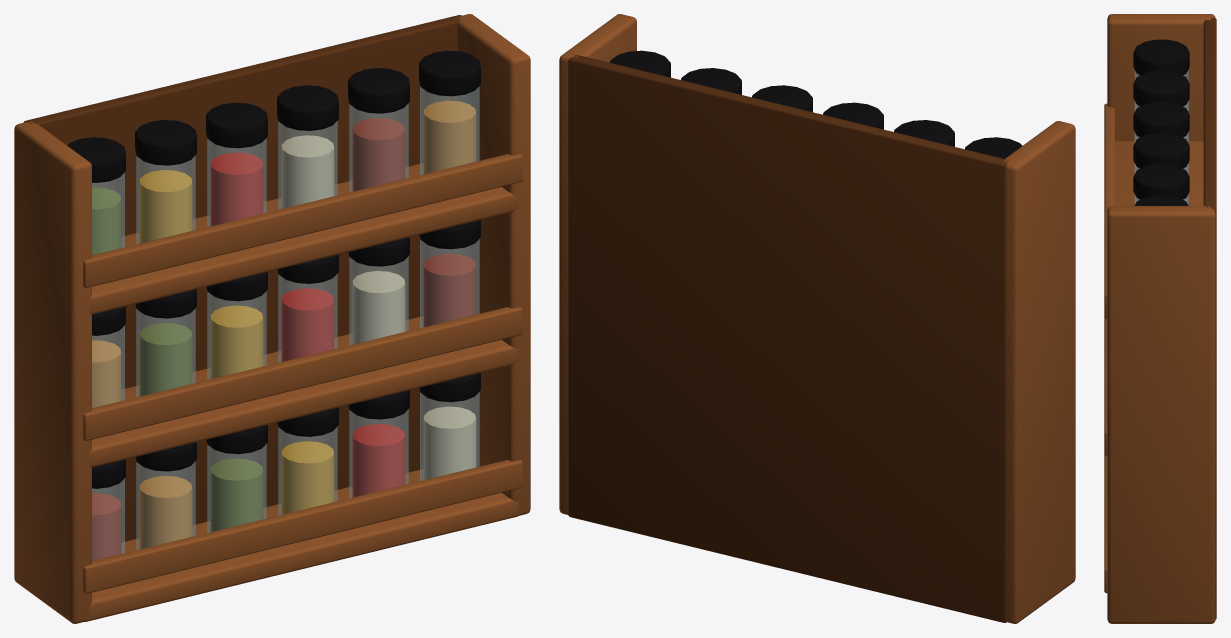
File: spice_rack.glb
3 renders of one model, left to right at view 1: azimuth 30°, elevation 25°; view 2: azimuth 150°, elevation 25°; view 3: azimuth 270°, elevation 25°, orthographic. The views are drawn at different scales.
Parts seen in each view (by area): view 1: spice_rack; view 2: spice_rack; view 3: spice_rack.
Part boxes in pixels (x1,y1,x2,y2): spice_rack: (14,14,530,623); spice_rack: (559,14,1075,623); spice_rack: (1104,14,1216,623).
Bounding box in the file's own units: 0.44 × 0.42 × 0.104.
